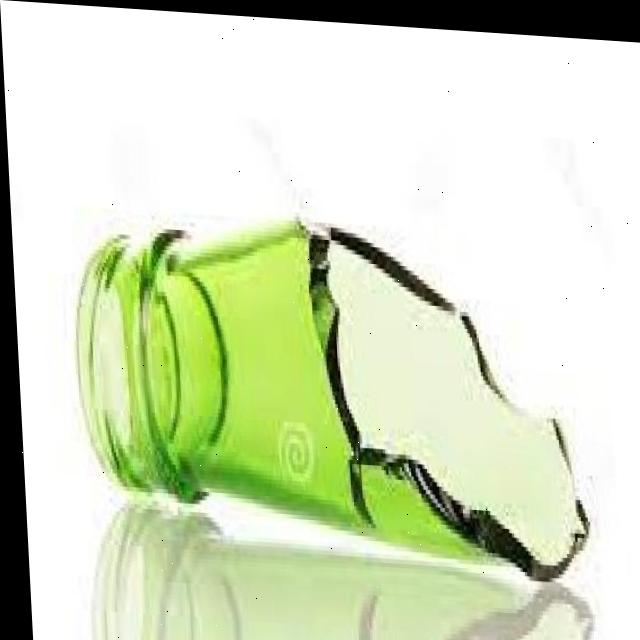Dry: (68, 190, 590, 575)
